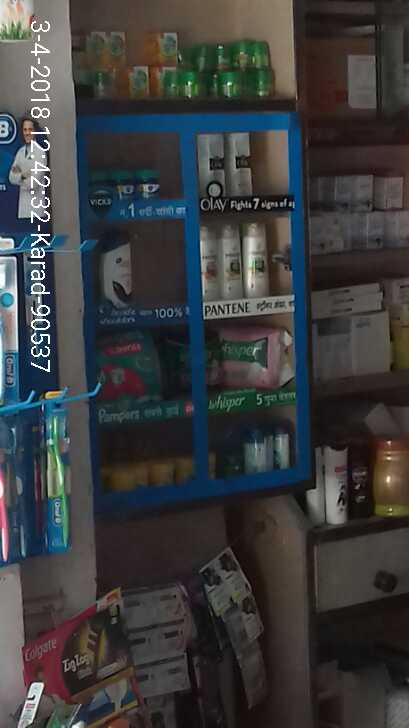oralcare: (1, 111, 73, 560)
vicks: (96, 166, 159, 202)
